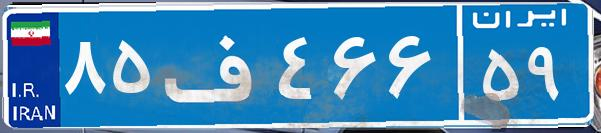4: (273, 28, 330, 110)
5: (475, 38, 525, 113), (110, 28, 158, 105)
6: (385, 28, 445, 110), (330, 28, 385, 110)
8: (57, 26, 110, 107)
9: (525, 38, 570, 115)
ف: (158, 15, 273, 115)
